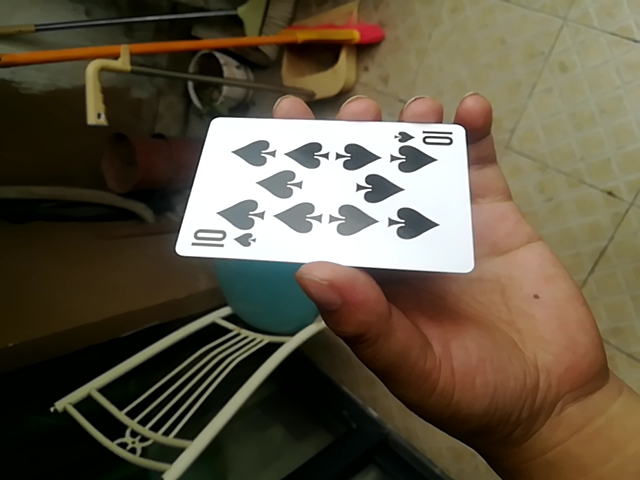ht 10: (167, 112, 474, 271)
